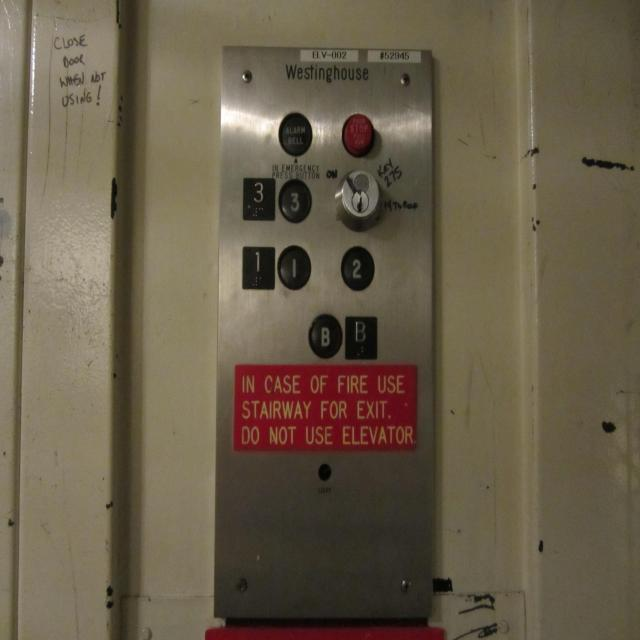1: (275, 242, 313, 292), (240, 243, 277, 293)
2: (338, 243, 376, 294)
3: (240, 174, 278, 224), (277, 176, 314, 226)
B: (306, 310, 344, 362), (342, 312, 380, 362)
keyhole: (331, 165, 385, 233)
text: (276, 109, 314, 158), (340, 110, 378, 159)
